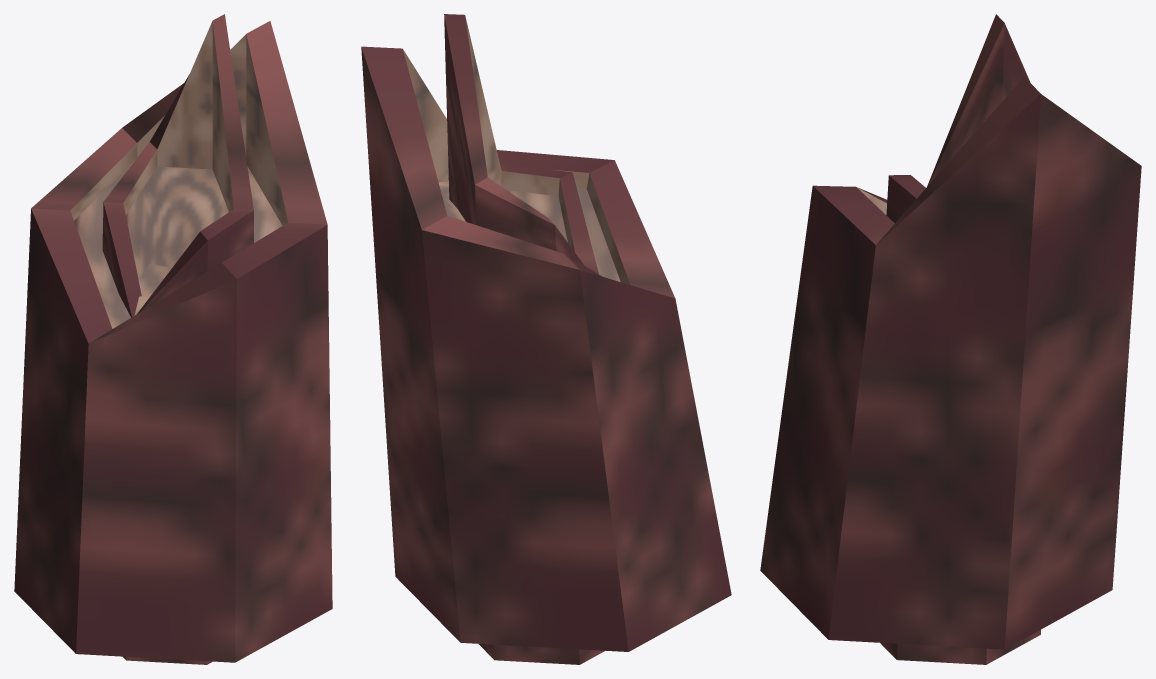
File: trunk_03.glb
3 views of the same model, side by side, from view 1: azimuth 30°, elevation 25°; view 2: azimuth 150°, elevation 25°; view 3: azimuth 270°, elevation 25° (orthographic). The views are drawn at different scales.
Parts seen in each view (by area): view 1: trunk_04, trunk_03; view 2: trunk_04, trunk_03; view 3: trunk_04, trunk_03.
Part boxes in pixels (bbox=[...]): trunk_04: bbox=[14, 21, 332, 662]; trunk_03: bbox=[102, 14, 253, 664]; trunk_04: bbox=[361, 46, 731, 651]; trunk_03: bbox=[444, 14, 604, 664]; trunk_04: bbox=[760, 76, 1141, 649]; trunk_03: bbox=[880, 14, 1040, 664].
Size of the model in its own units: 3.72 by 7.62 by 4.07.
Materials: 2 (2 with a texture image).
